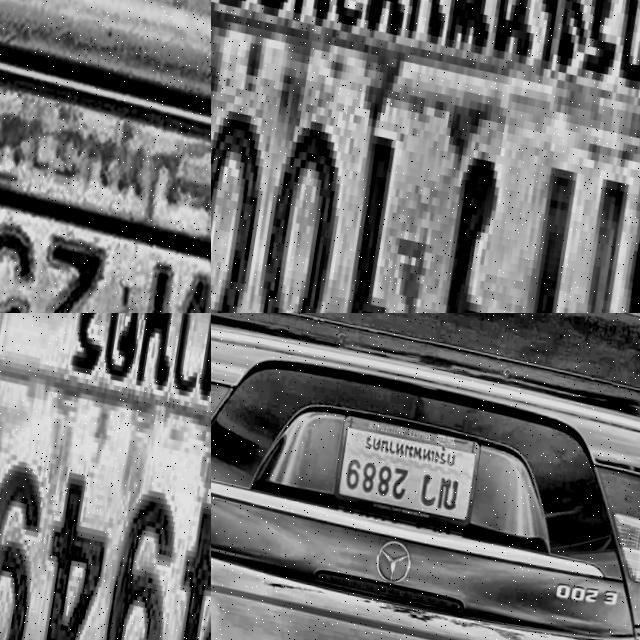license-plate: (211, 0, 640, 313), (0, 313, 211, 640), (0, 0, 211, 313), (327, 406, 482, 528)
